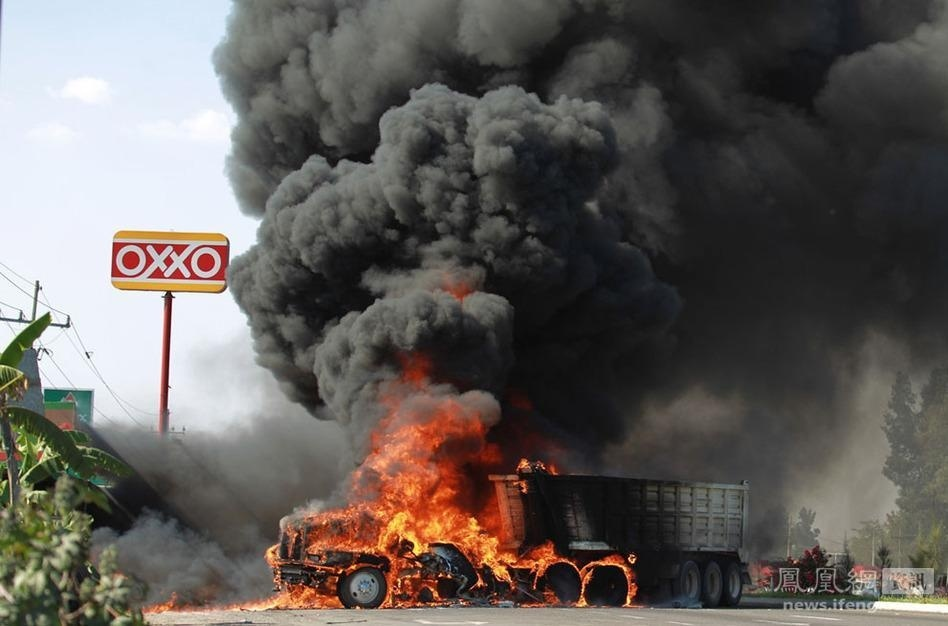fire: (261, 388, 653, 611)
